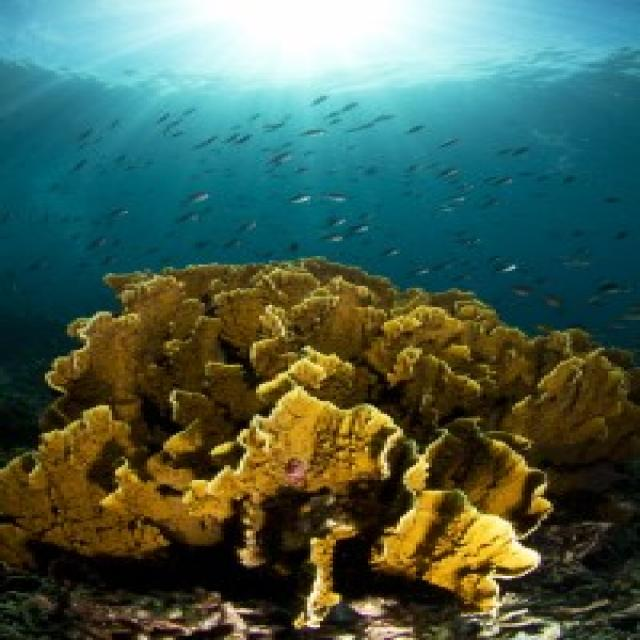Coral: (0, 258, 640, 630)
